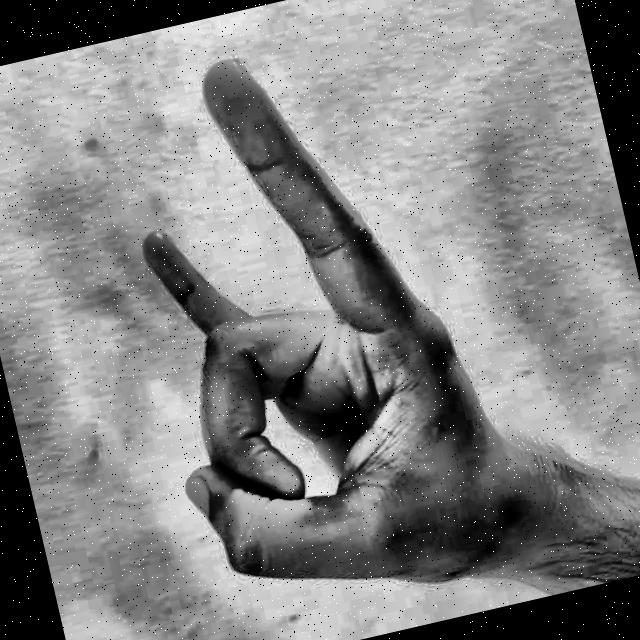Cha: (35, 0, 601, 640)
